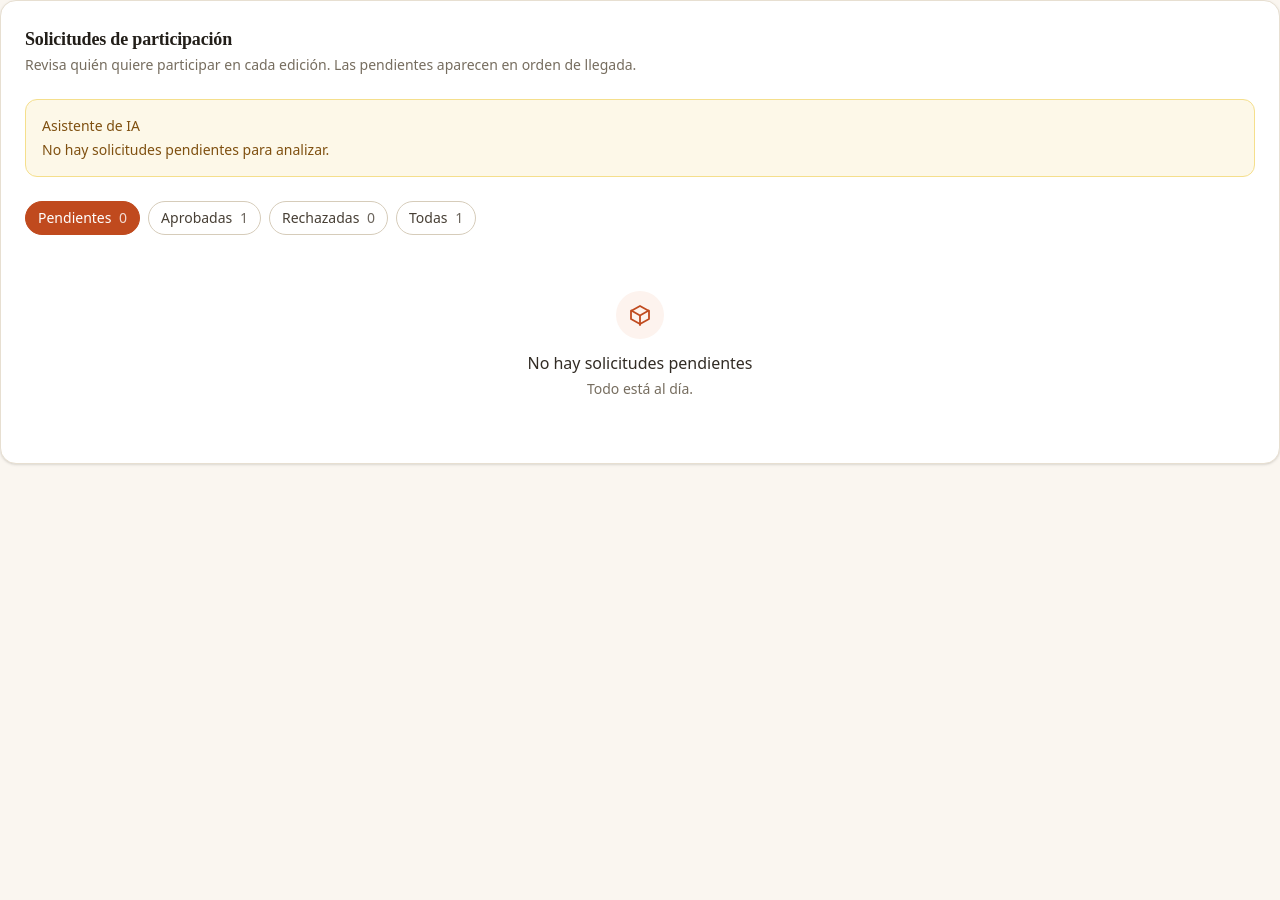
it: GestionSolicitudes: acciones › cancelar la confirmación no rechaza
The width and height of the screenshot is (1280, 900).
Click the button "Aprobadas 1" at coordinates (204, 218), box top-left (148, 201), bottom-right (261, 235)
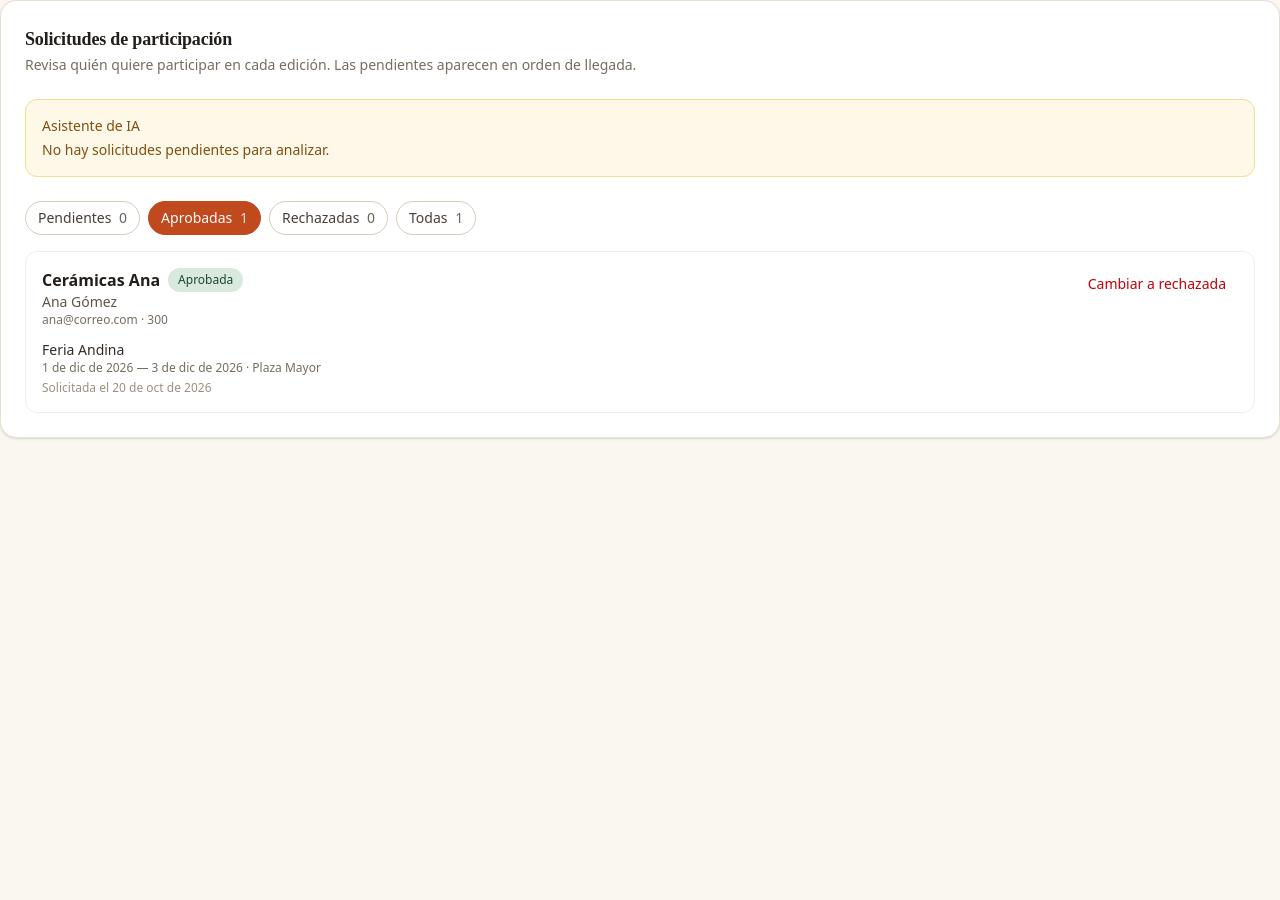
Click the button "Cambiar a rechazada" at coordinates (1157, 284), box top-left (1076, 268), bottom-right (1238, 300)
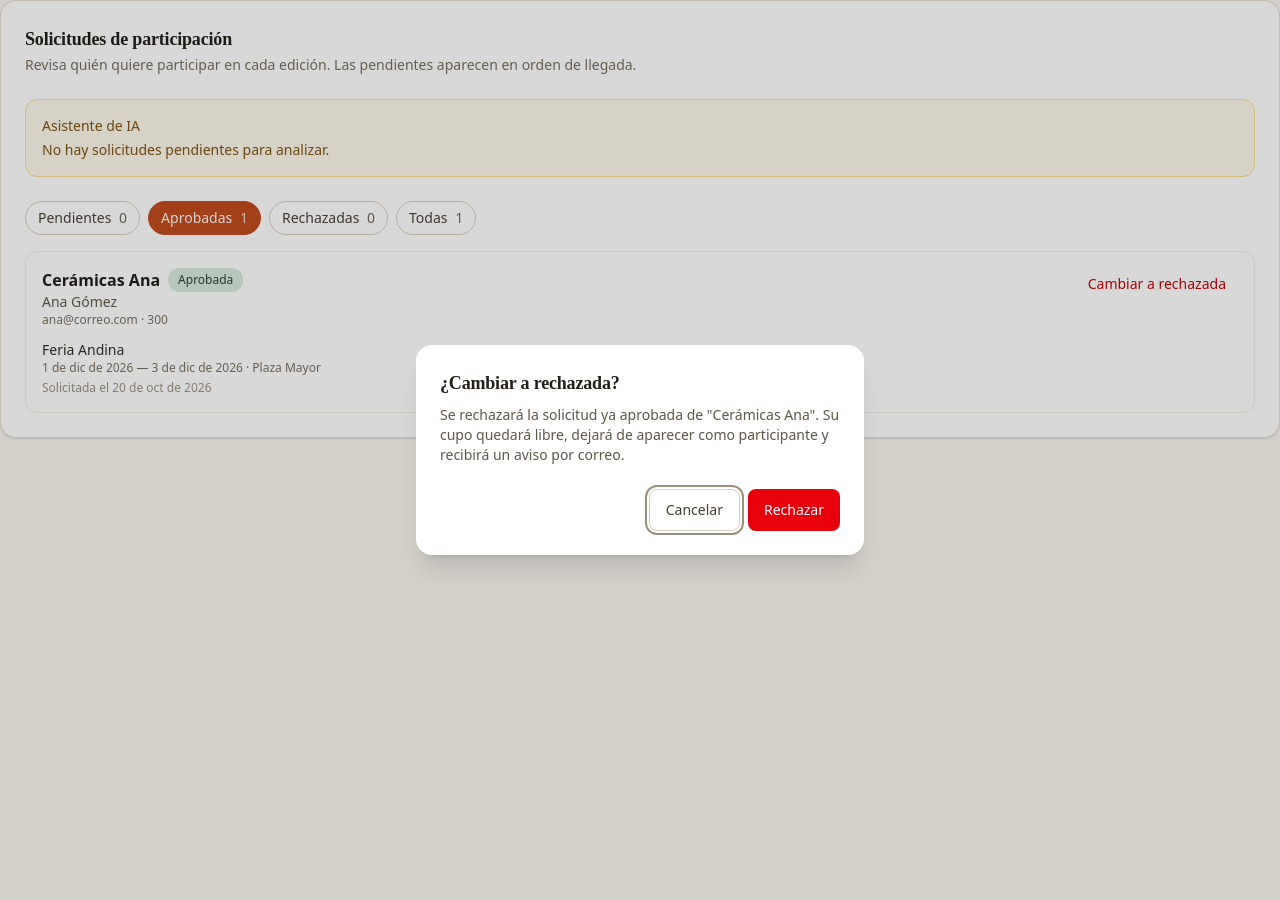
Click the button "Cancelar" at coordinates (694, 510), box top-left (649, 489), bottom-right (740, 531)
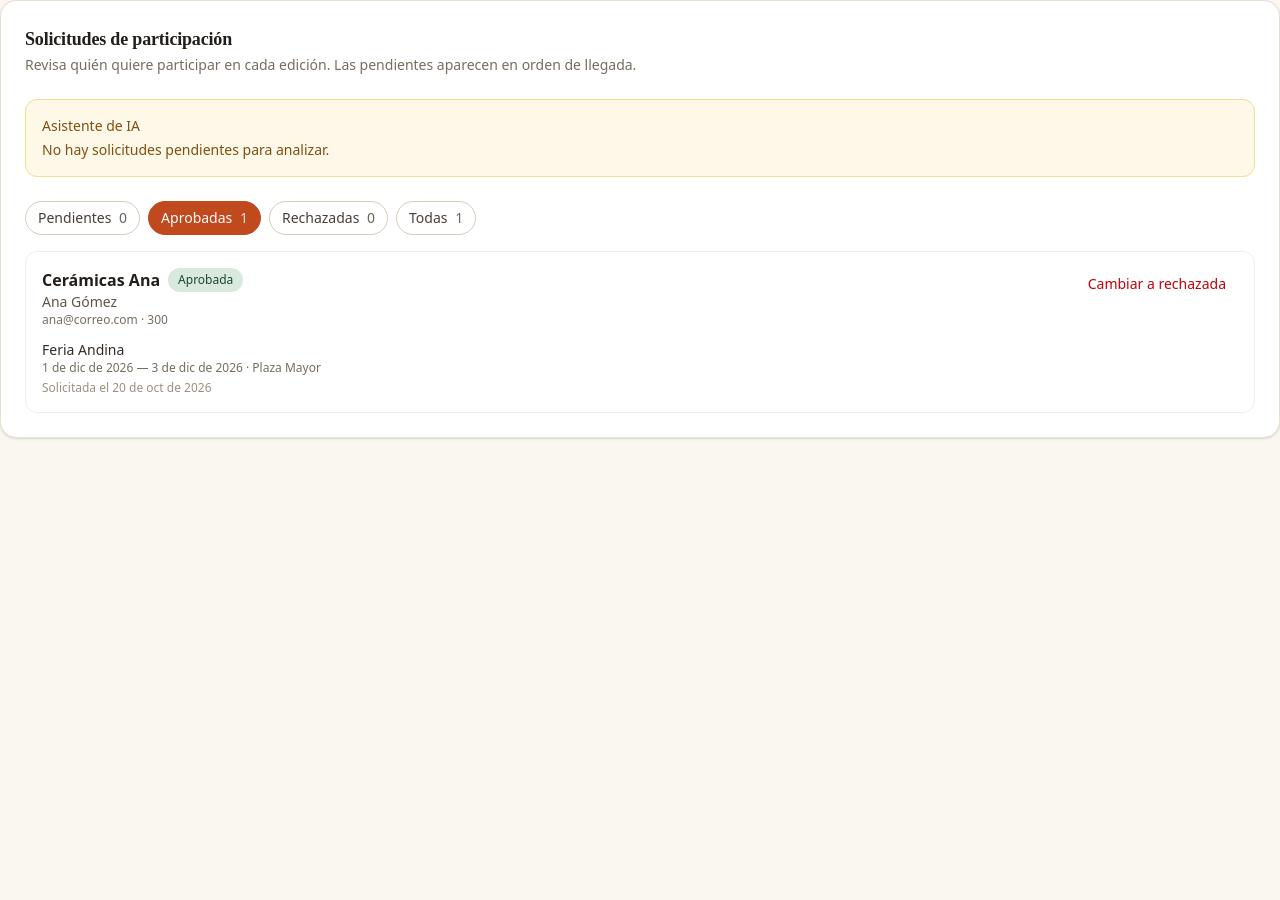
Expected: the dialog is gone
